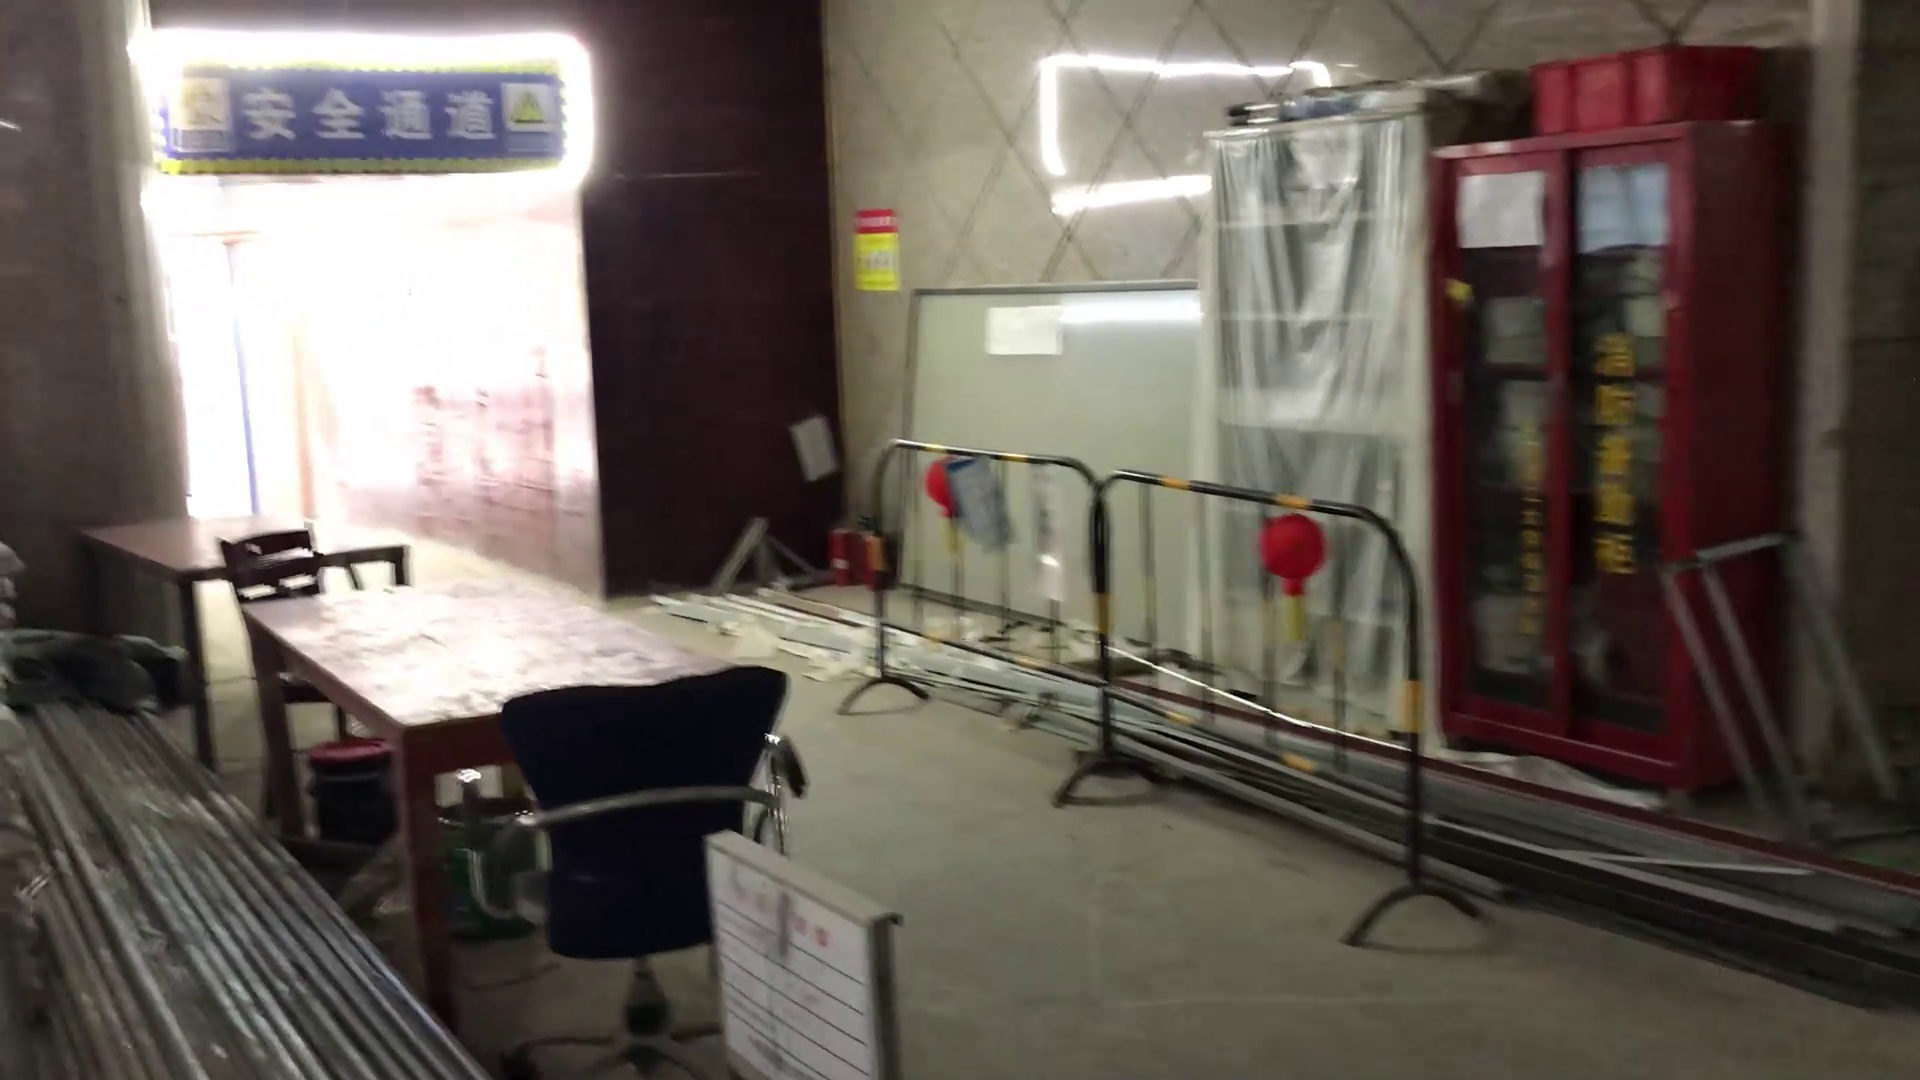fence: (847, 425, 1494, 938)
slogan: (175, 61, 556, 200), (845, 207, 903, 291)
